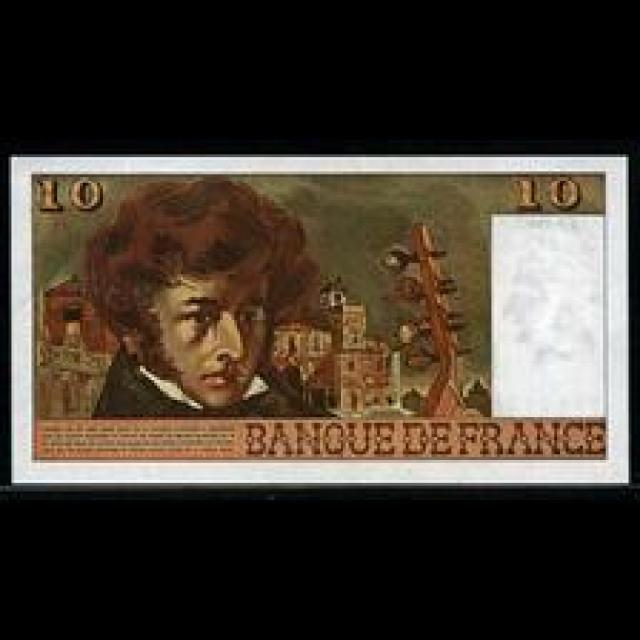banknote: (6, 155, 631, 481), (504, 164, 590, 222), (24, 167, 110, 220)
